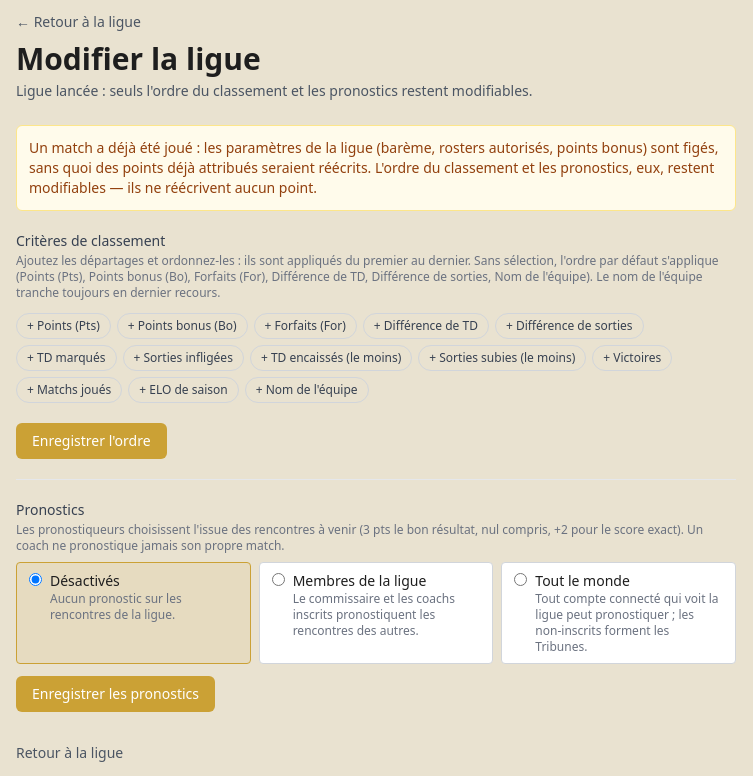
EditLeaguePage › ligue verrouillée : portée des pronostics › part sur la route hors verrou, sans toucher à l'ordre
The width and height of the screenshot is (753, 776).
Check: the button with test id "locked-predictions-submit" is shown, box [16, 676, 215, 712]
What coordinates should you click on to do the following:
click the radio button with test id "league-predictions-scope-members"
I would click on:
 (278, 580)
Its box is [272, 573, 285, 586].
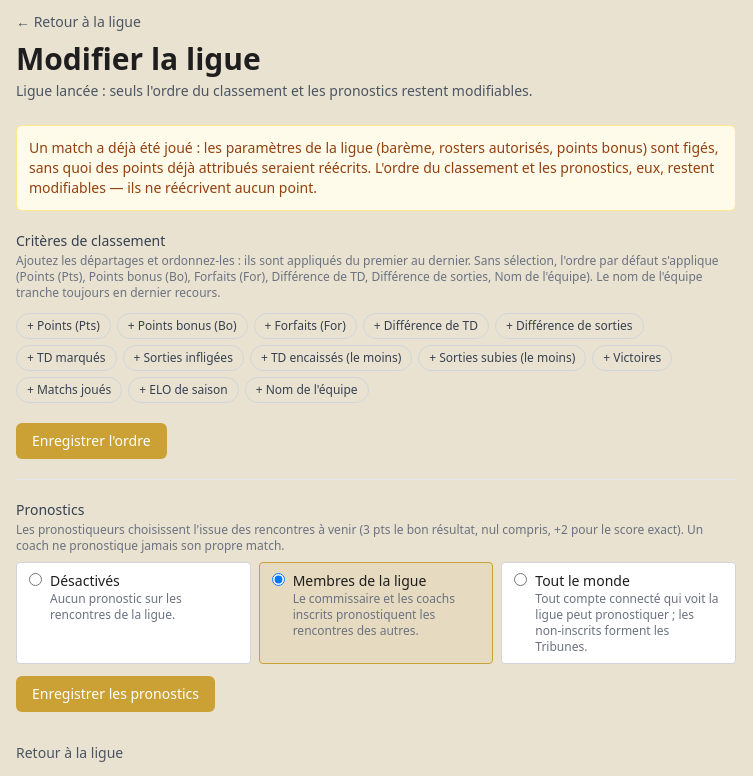
What coordinates should you click on to do the following:
click the button with test id "locked-predictions-submit"
I would click on:
 (116, 694)
Its box is [16, 676, 215, 712].
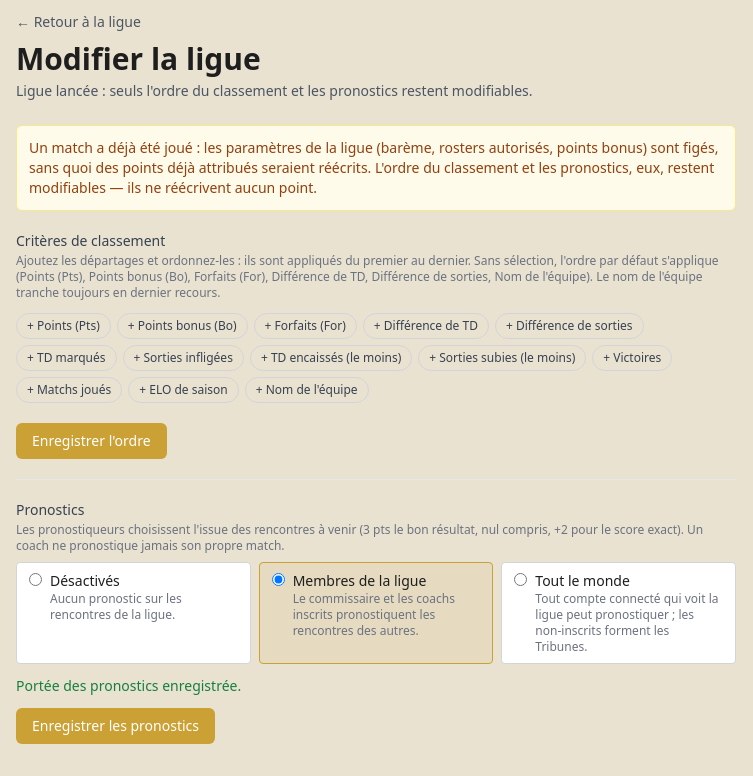
Check: the text "Portée des pronostics enregistrée." is shown, box [16, 676, 241, 695]
